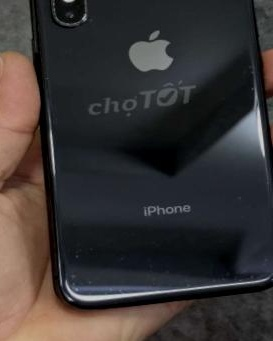scratch: (113, 247, 166, 279), (198, 262, 263, 286), (69, 269, 105, 293), (65, 240, 93, 263), (250, 251, 273, 279), (138, 234, 165, 254), (237, 58, 258, 78), (74, 5, 97, 23), (232, 210, 249, 227), (38, 68, 52, 84), (115, 281, 133, 292), (259, 210, 271, 226), (232, 184, 242, 200), (184, 278, 196, 291), (150, 279, 164, 290), (247, 83, 257, 95)
